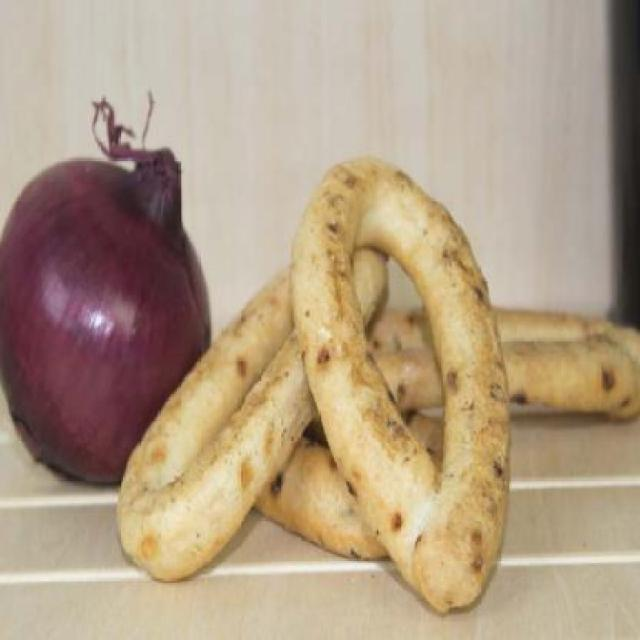Taralli: (119, 160, 635, 614)
